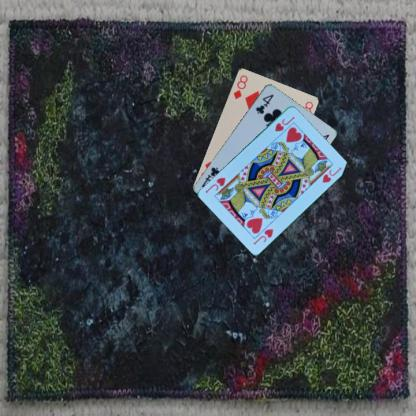4c: (253, 91, 275, 115)
8d: (231, 72, 249, 101)
Jh: (251, 226, 274, 246), (272, 114, 297, 132)
